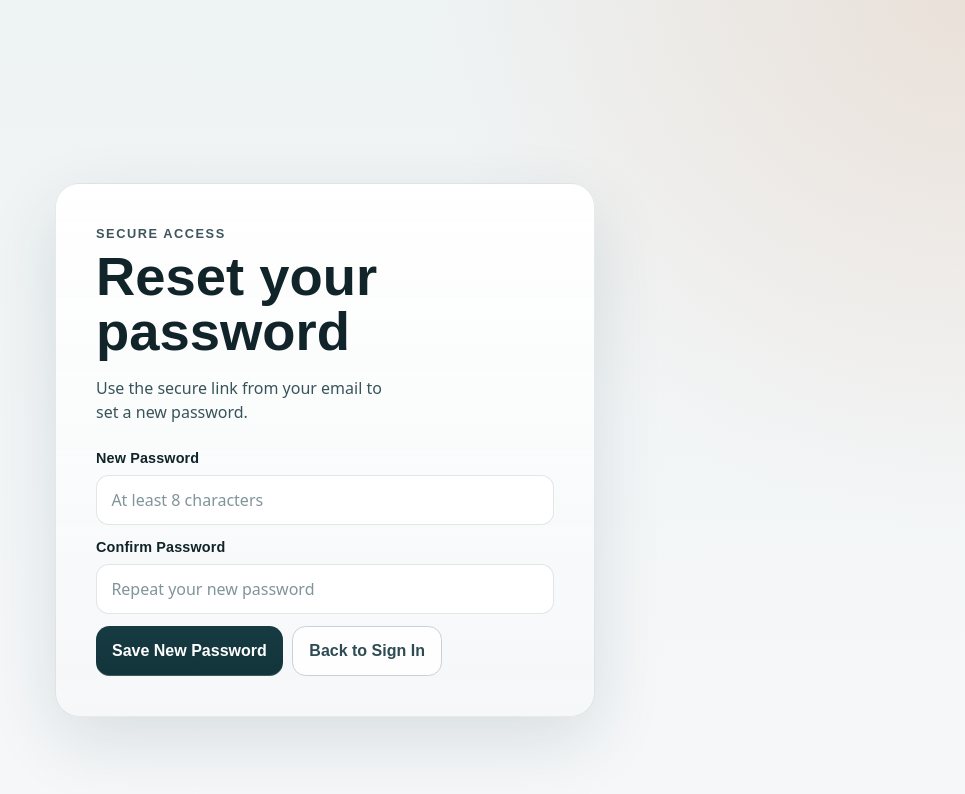
AuthGate › blocks recovery submit when the new password is shorter than 8 characters
Type "short" into the password field labelled "New Password" at {"x": 325, "y": 500}, box [96,475,554,525]
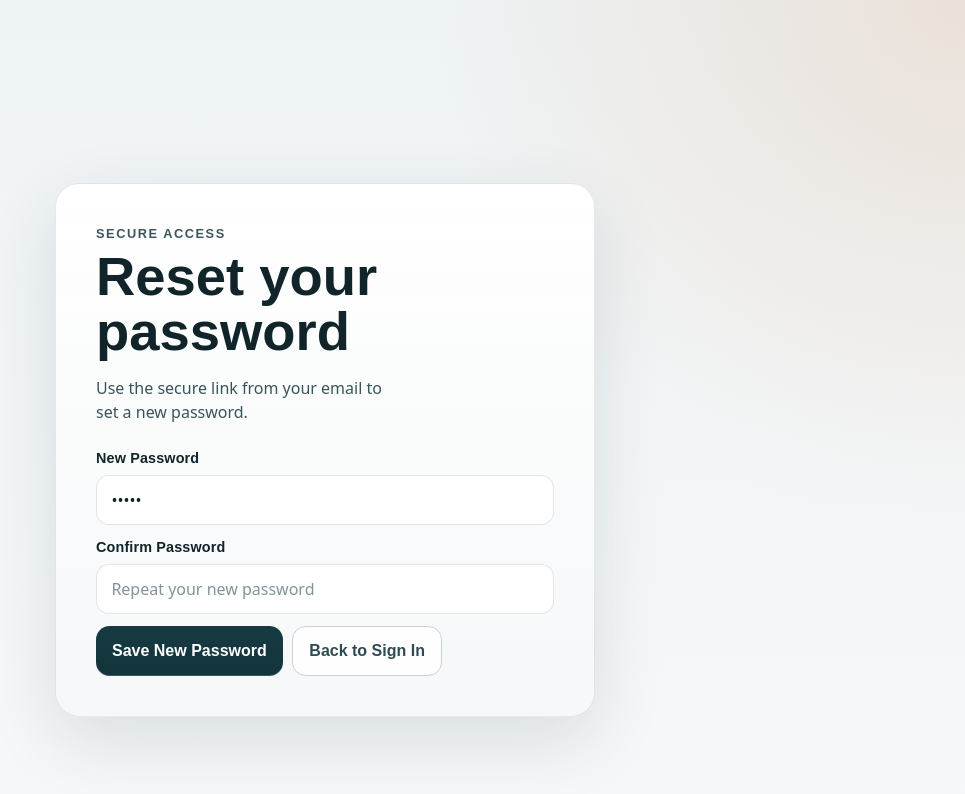
Type "short" into the password field labelled "Confirm Password" at {"x": 325, "y": 589}, box [96,564,554,614]
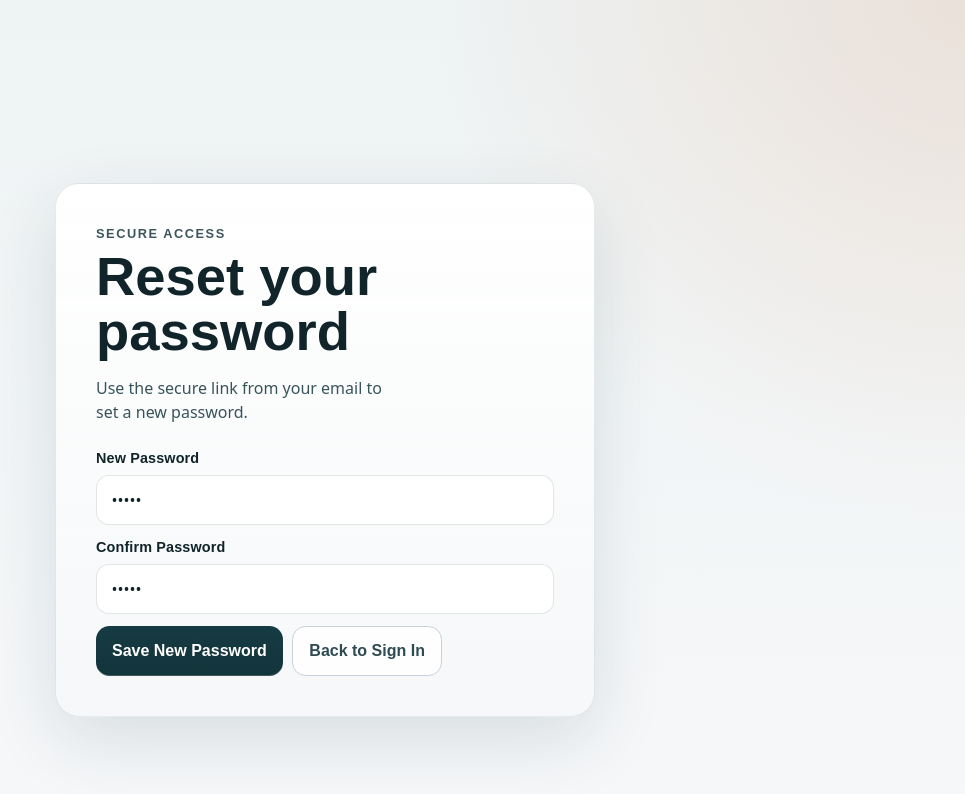
Submit the form "Save New Password", box [96,448,554,676]
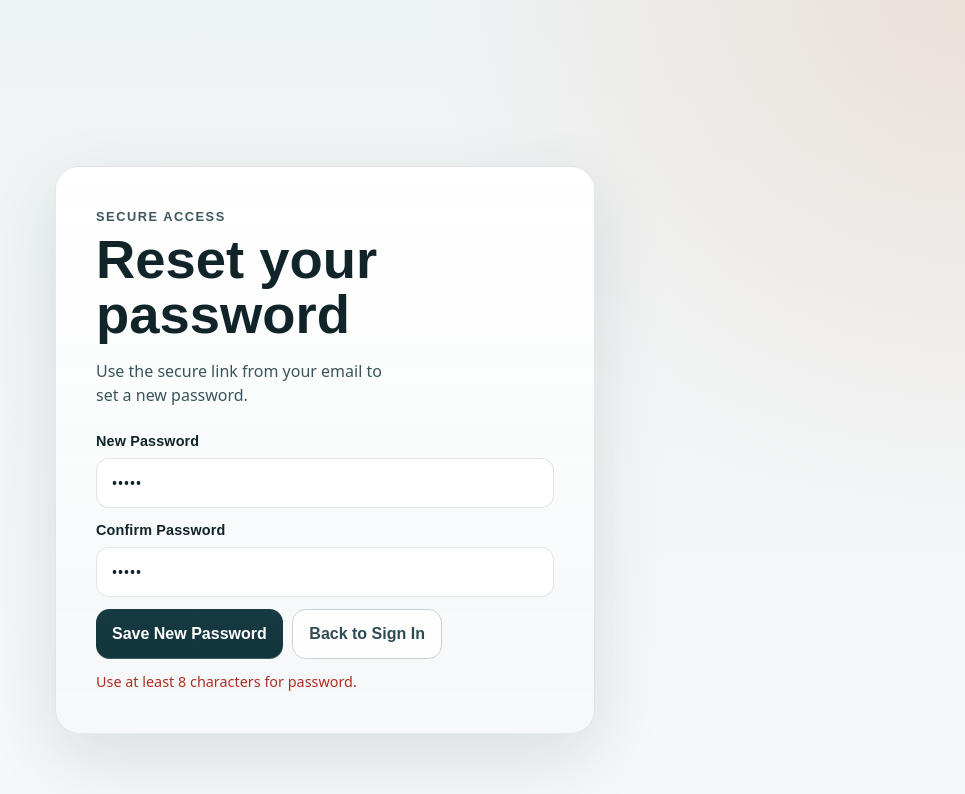
Now the text "Use at least 8 characters for password." is shown, box [96,672,357,691]
